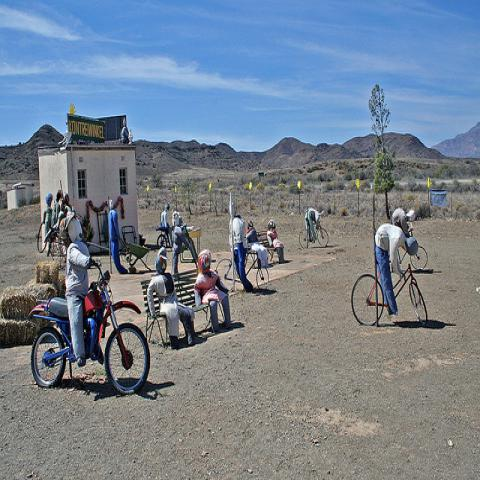motorcycle: (29, 255, 150, 394)
